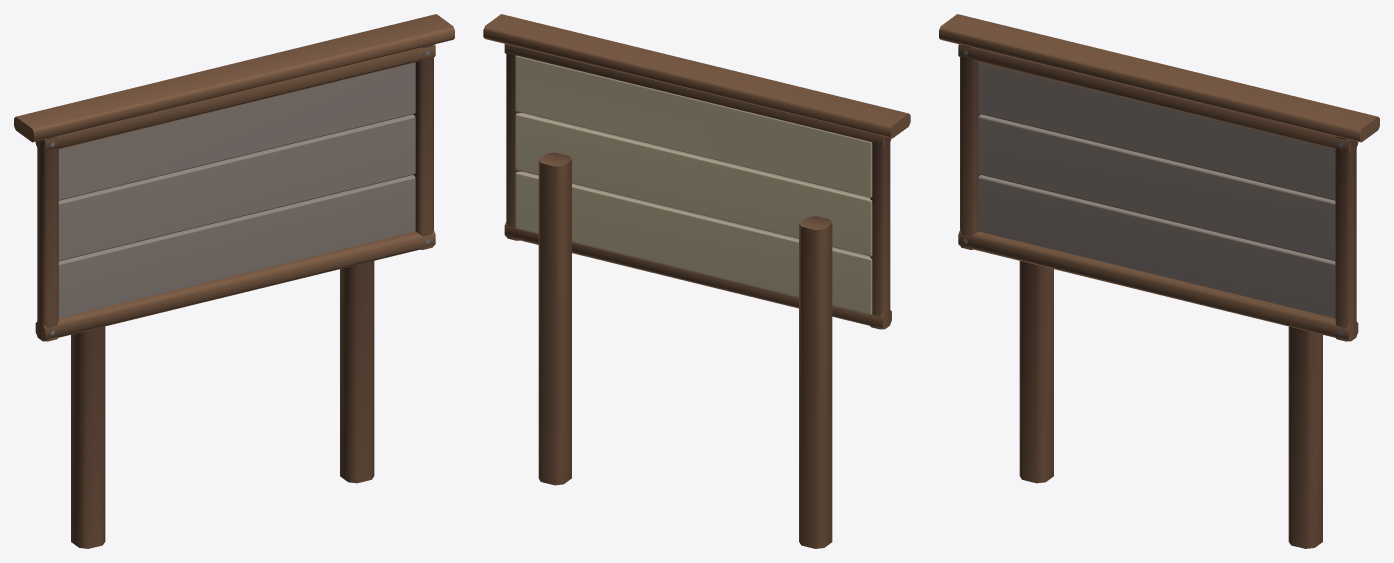
The model's file is SignBoard.fbx.
3 renders of one model, left to right at view 1: azimuth 30°, elevation 25°; view 2: azimuth 150°, elevation 25°; view 3: azimuth 330°, elevation 25°, orthographic. The views are drawn at different scales.
Parts seen in each view (by area): view 1: Board, Posts; view 2: Board, Posts; view 3: Board, Posts.
Part boxes in pixels (x1,y1,x2,y2): Board: (14, 14, 454, 341); Posts: (71, 261, 374, 548); Board: (483, 14, 910, 329); Posts: (538, 152, 832, 548); Board: (939, 14, 1379, 341); Posts: (1019, 261, 1322, 548).
Size of the model in its own units: 1.94 by 1.96 by 0.235.
